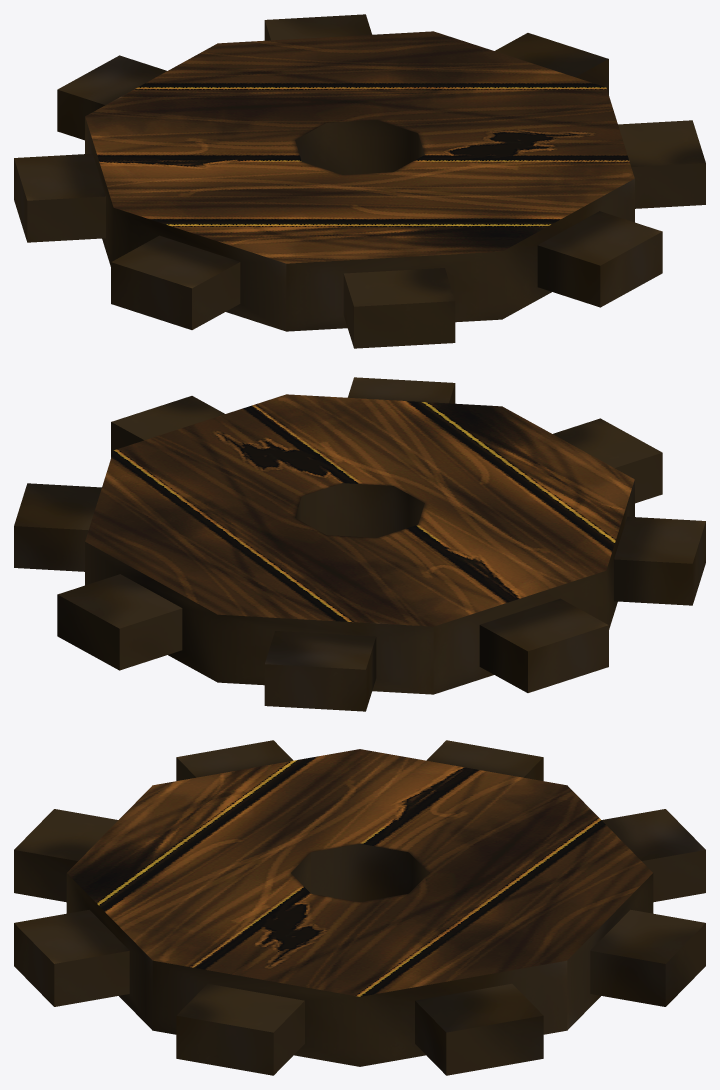
File: MESH_AMB07_Gear.fbx
The picture shows the model from 3 angles, top to bottom: view 1: azimuth 30°, elevation 25°; view 2: azimuth 150°, elevation 25°; view 3: azimuth 270°, elevation 25°; orthographic projection. The views are drawn at different scales.
Parts seen in each view (by area): view 1: polySurface135; view 2: polySurface135; view 3: polySurface135.
Part boxes in pixels (bbox=[...]): polySurface135: bbox=[14, 14, 705, 348]; polySurface135: bbox=[14, 377, 705, 711]; polySurface135: bbox=[14, 740, 705, 1075].
Size of the model in its own units: 2.36 by 0.2635 by 2.36.
